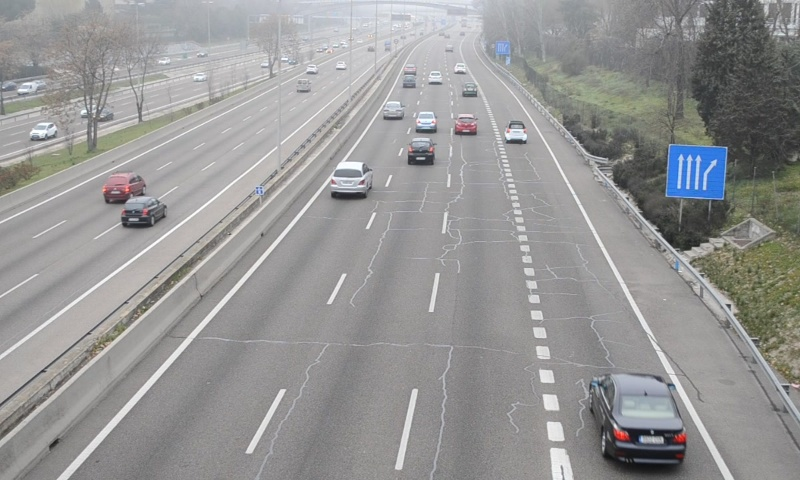car: (590, 372, 686, 465), (330, 160, 372, 195), (406, 137, 436, 166), (505, 120, 528, 144), (415, 110, 438, 133), (455, 114, 478, 136), (382, 101, 405, 121), (461, 81, 478, 98), (401, 75, 417, 88)
